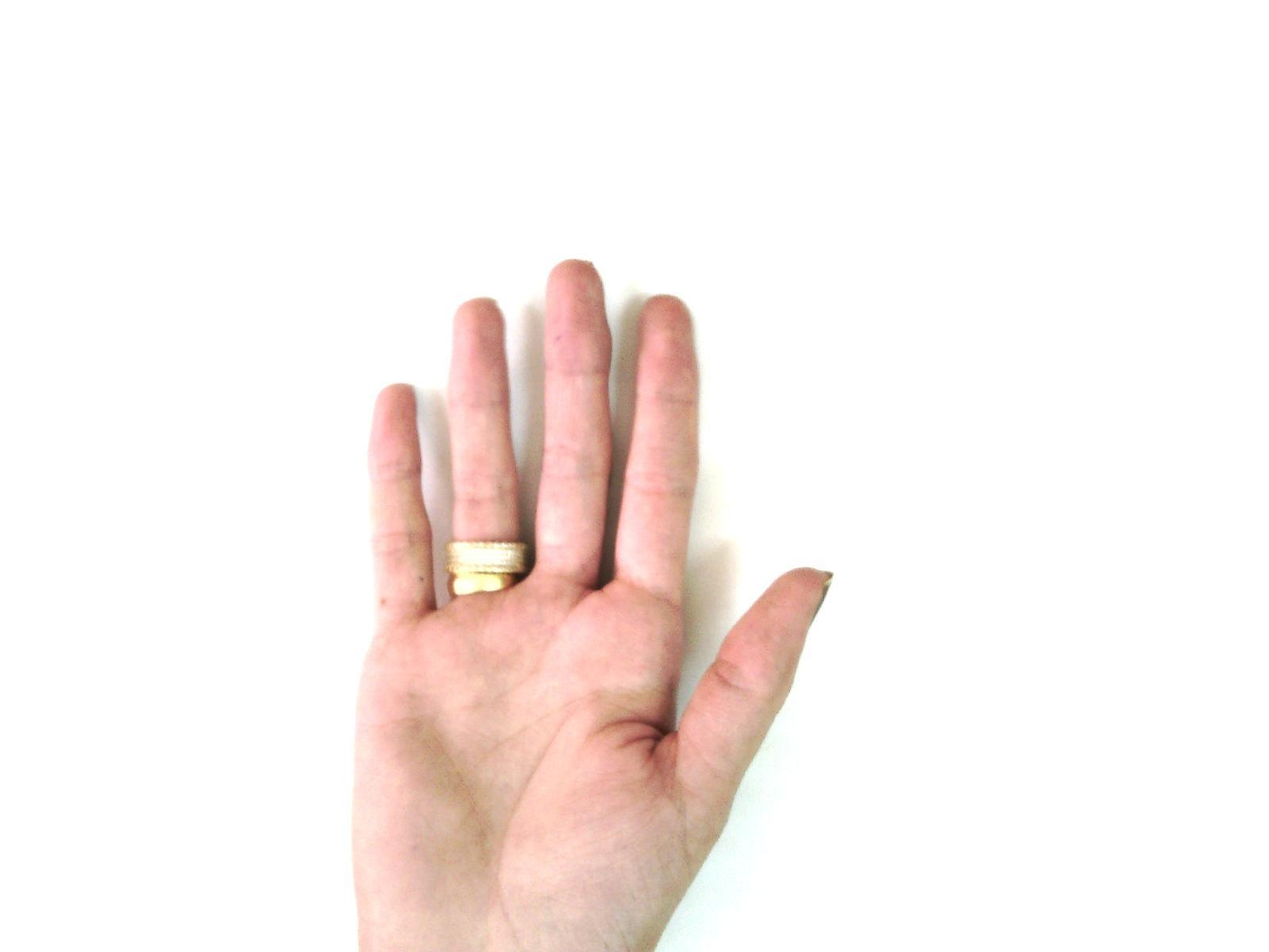open_palm: (347, 258, 836, 951)
